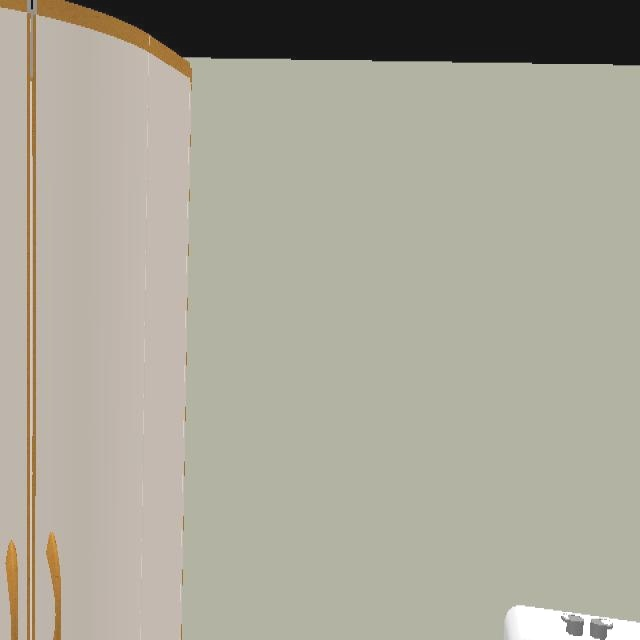toilet: (504, 605, 640, 640)
